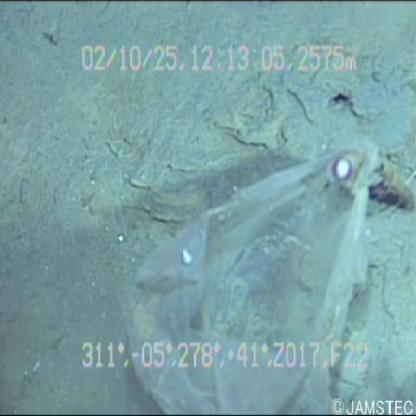Rác: (125, 99, 383, 416)
